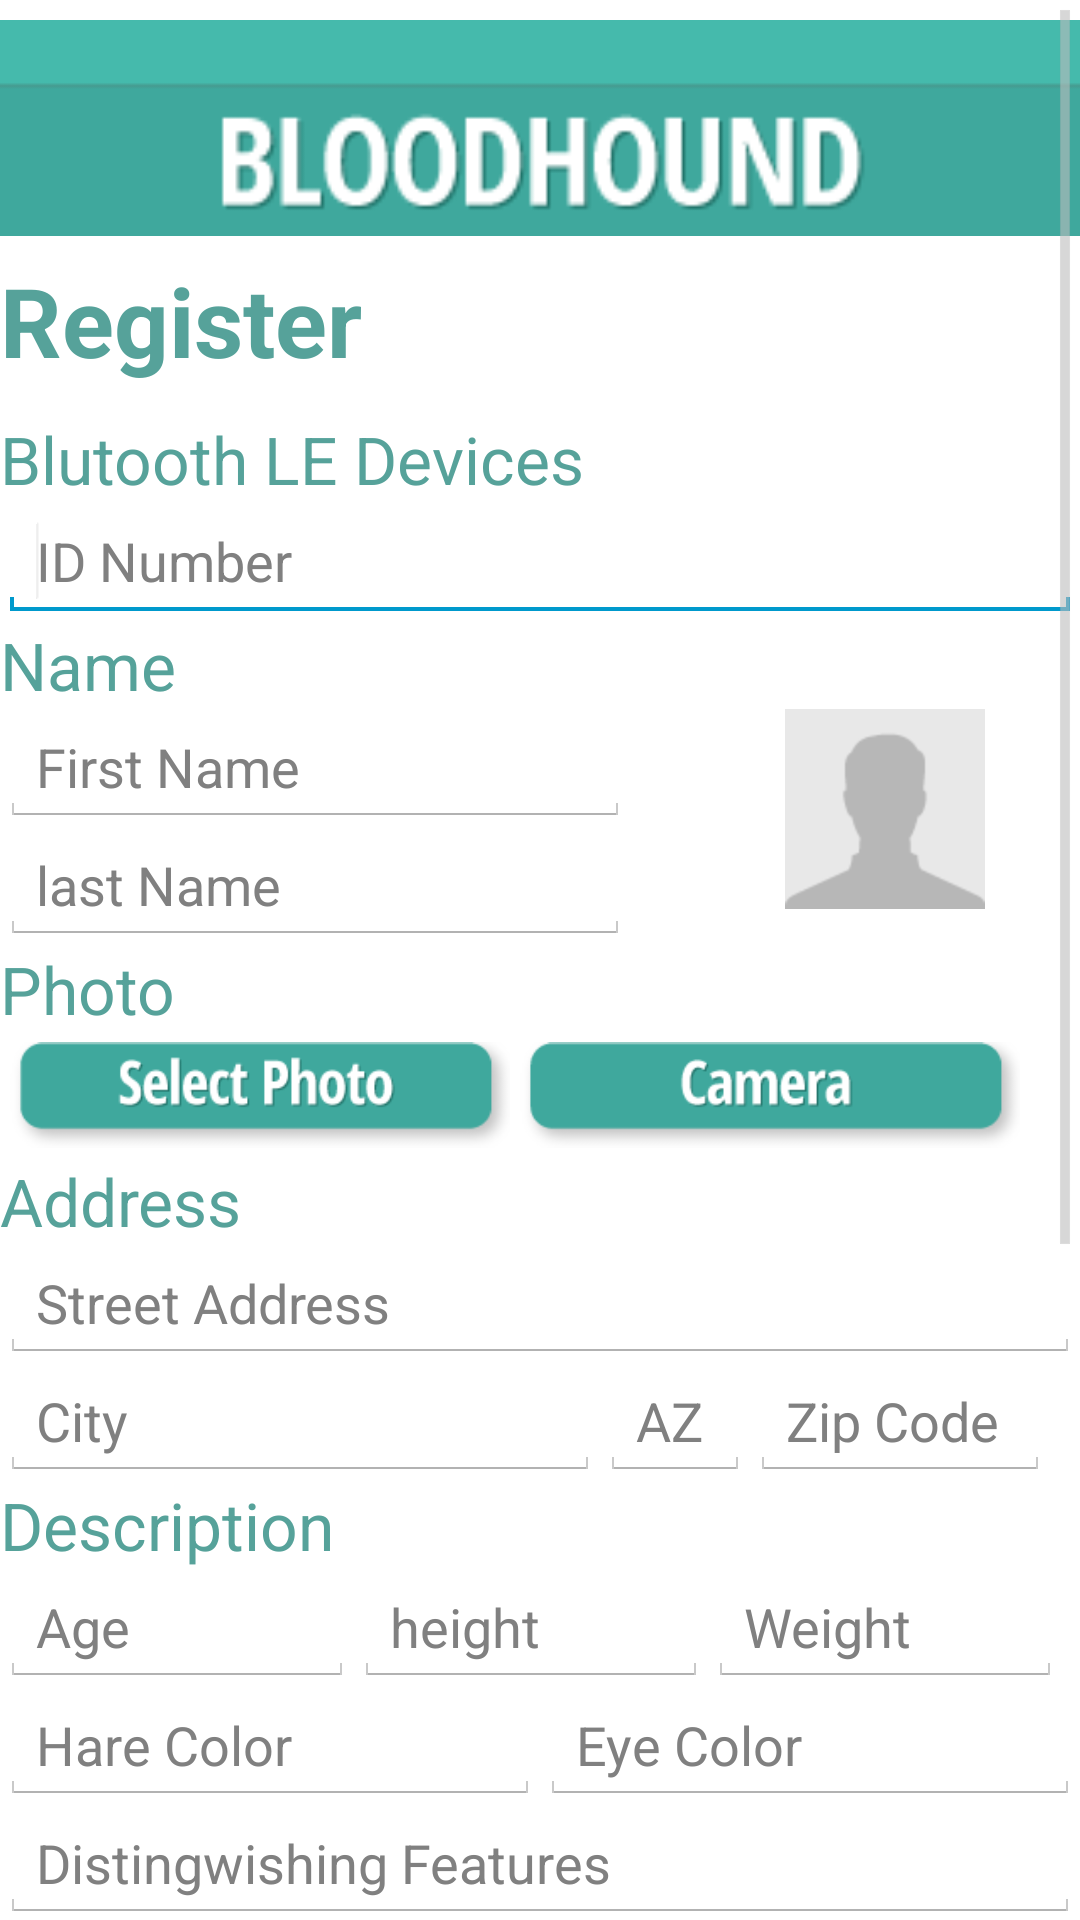

Where to tap for icons on this 1080x1920 app screen, as (x=x, y=y):
anonicon: (x=927, y=809)
